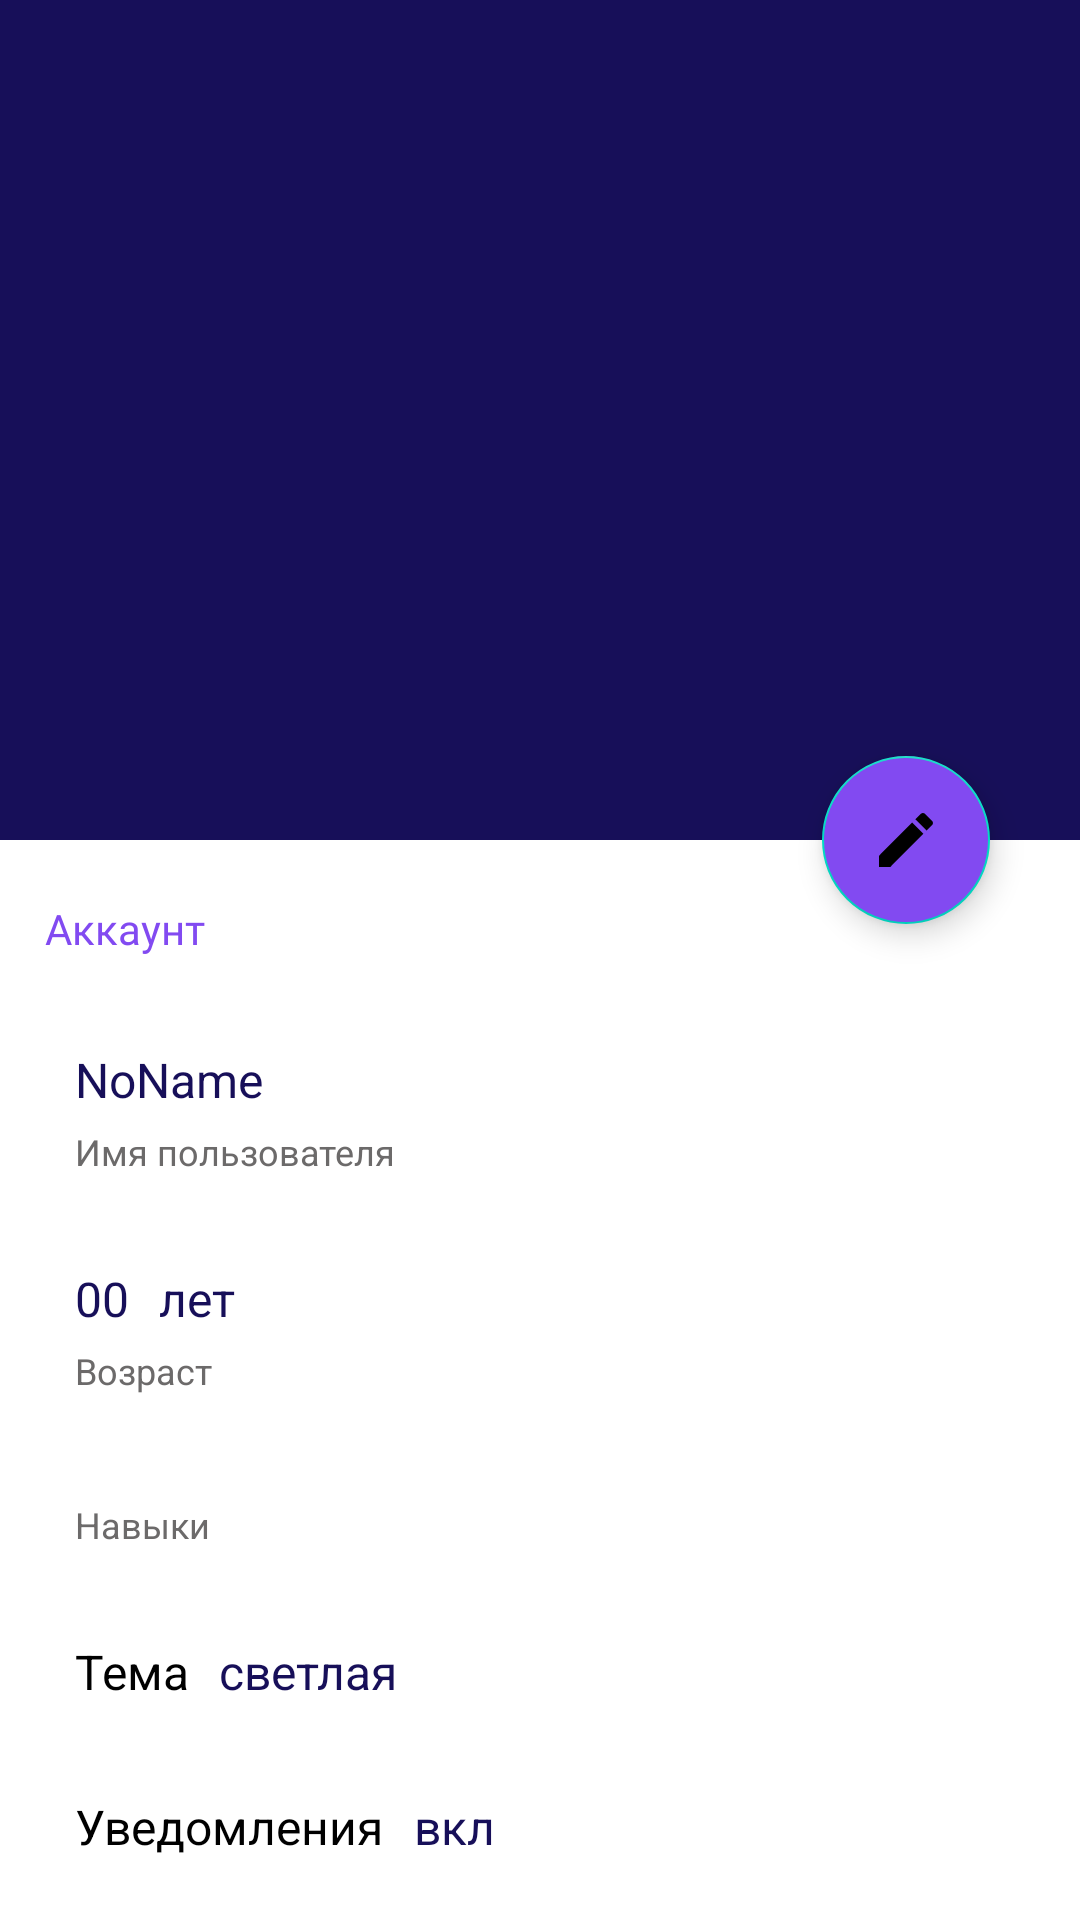

Named icons in this screenshot (1080px×1920px) and their centers, [x,y]:
edit: [906,840]
